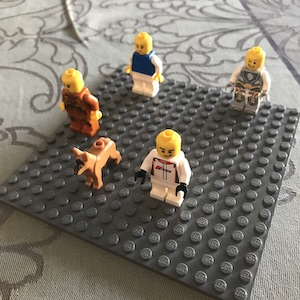Lego: (134, 129, 192, 210), (224, 45, 271, 115), (58, 67, 104, 136), (123, 30, 165, 98)
